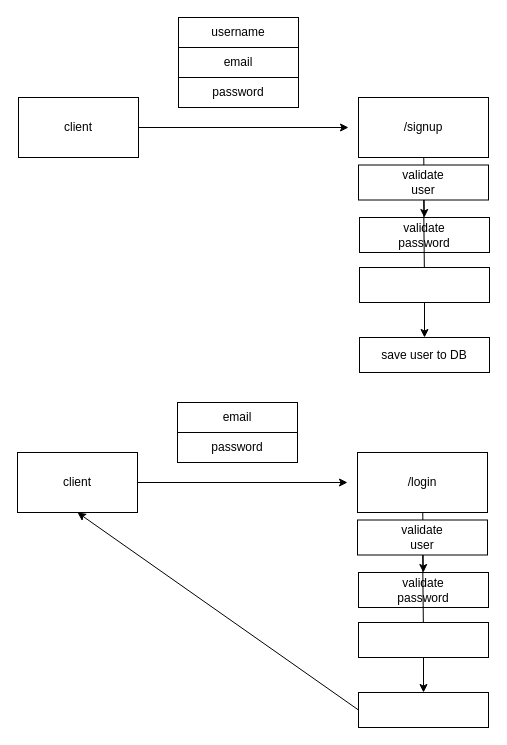
Image size: 507x745. Some labels were removed from this diagram. The centre of each missing label's shape, as x and y in pixels:
"create JWT token" goes at [423,640].
"hash password" goes at [424,284].
"return token to client" goes at [423,710].
